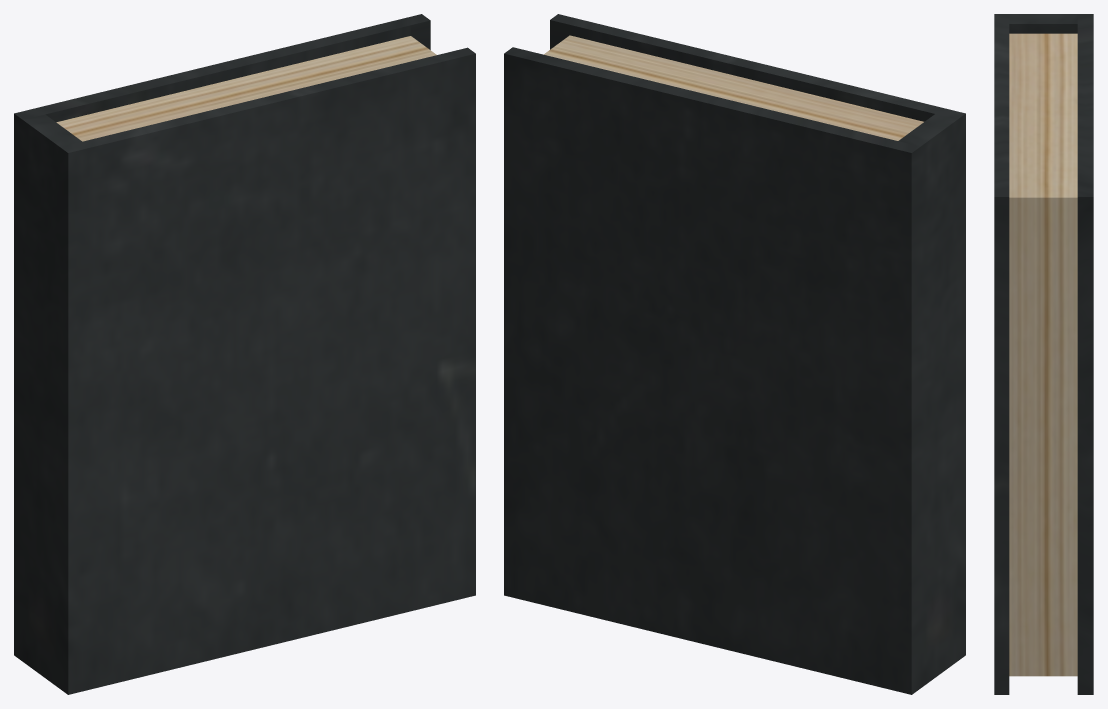
The model's file is broken_FlaskSquare.fbx_floor3.fbx_book1.fbx.
3 views of the same model, side by side, from view 1: azimuth 30°, elevation 25°; view 2: azimuth 150°, elevation 25°; view 3: azimuth 270°, elevation 25° (orthographic). The views are drawn at different scales.
Visible parts, largest first — view 1: Cube.015; view 2: Cube.015; view 3: Cube.015.
Part boxes in pixels (<box>): Cube.015: <box>14,14,475,694</box>; Cube.015: <box>504,14,965,694</box>; Cube.015: <box>994,14,1093,694</box>.
Bounding box in the file's own units: 18.68 × 23.72 × 4.29.
